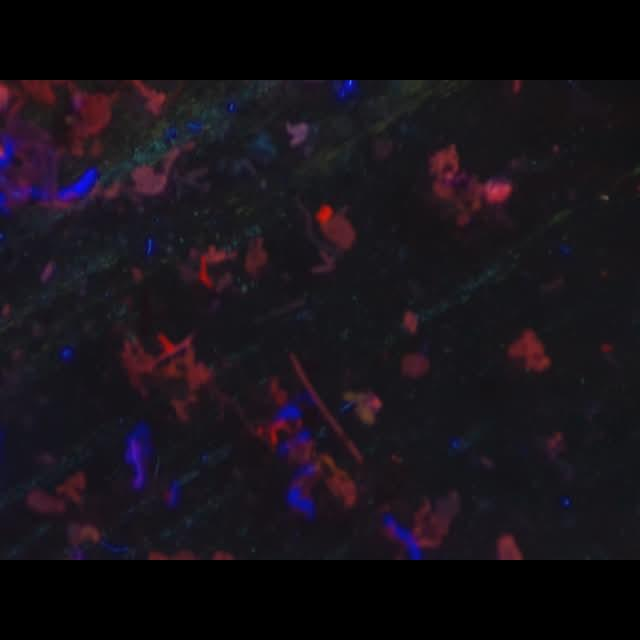Fragment: (507, 328, 551, 372)
